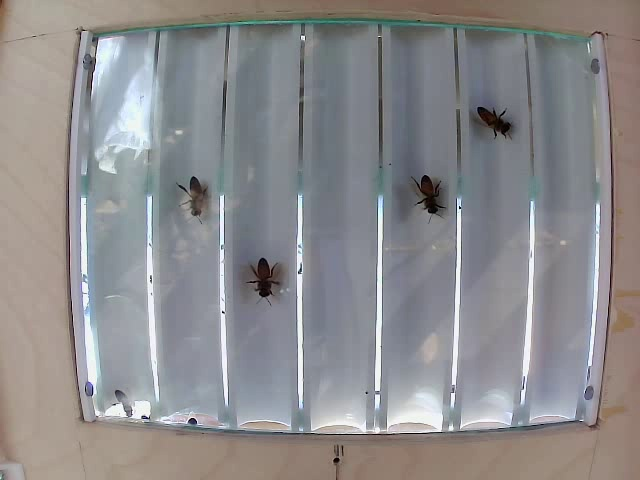bee: (248, 249, 299, 323), (404, 159, 447, 212), (173, 177, 218, 224), (474, 104, 514, 146)
